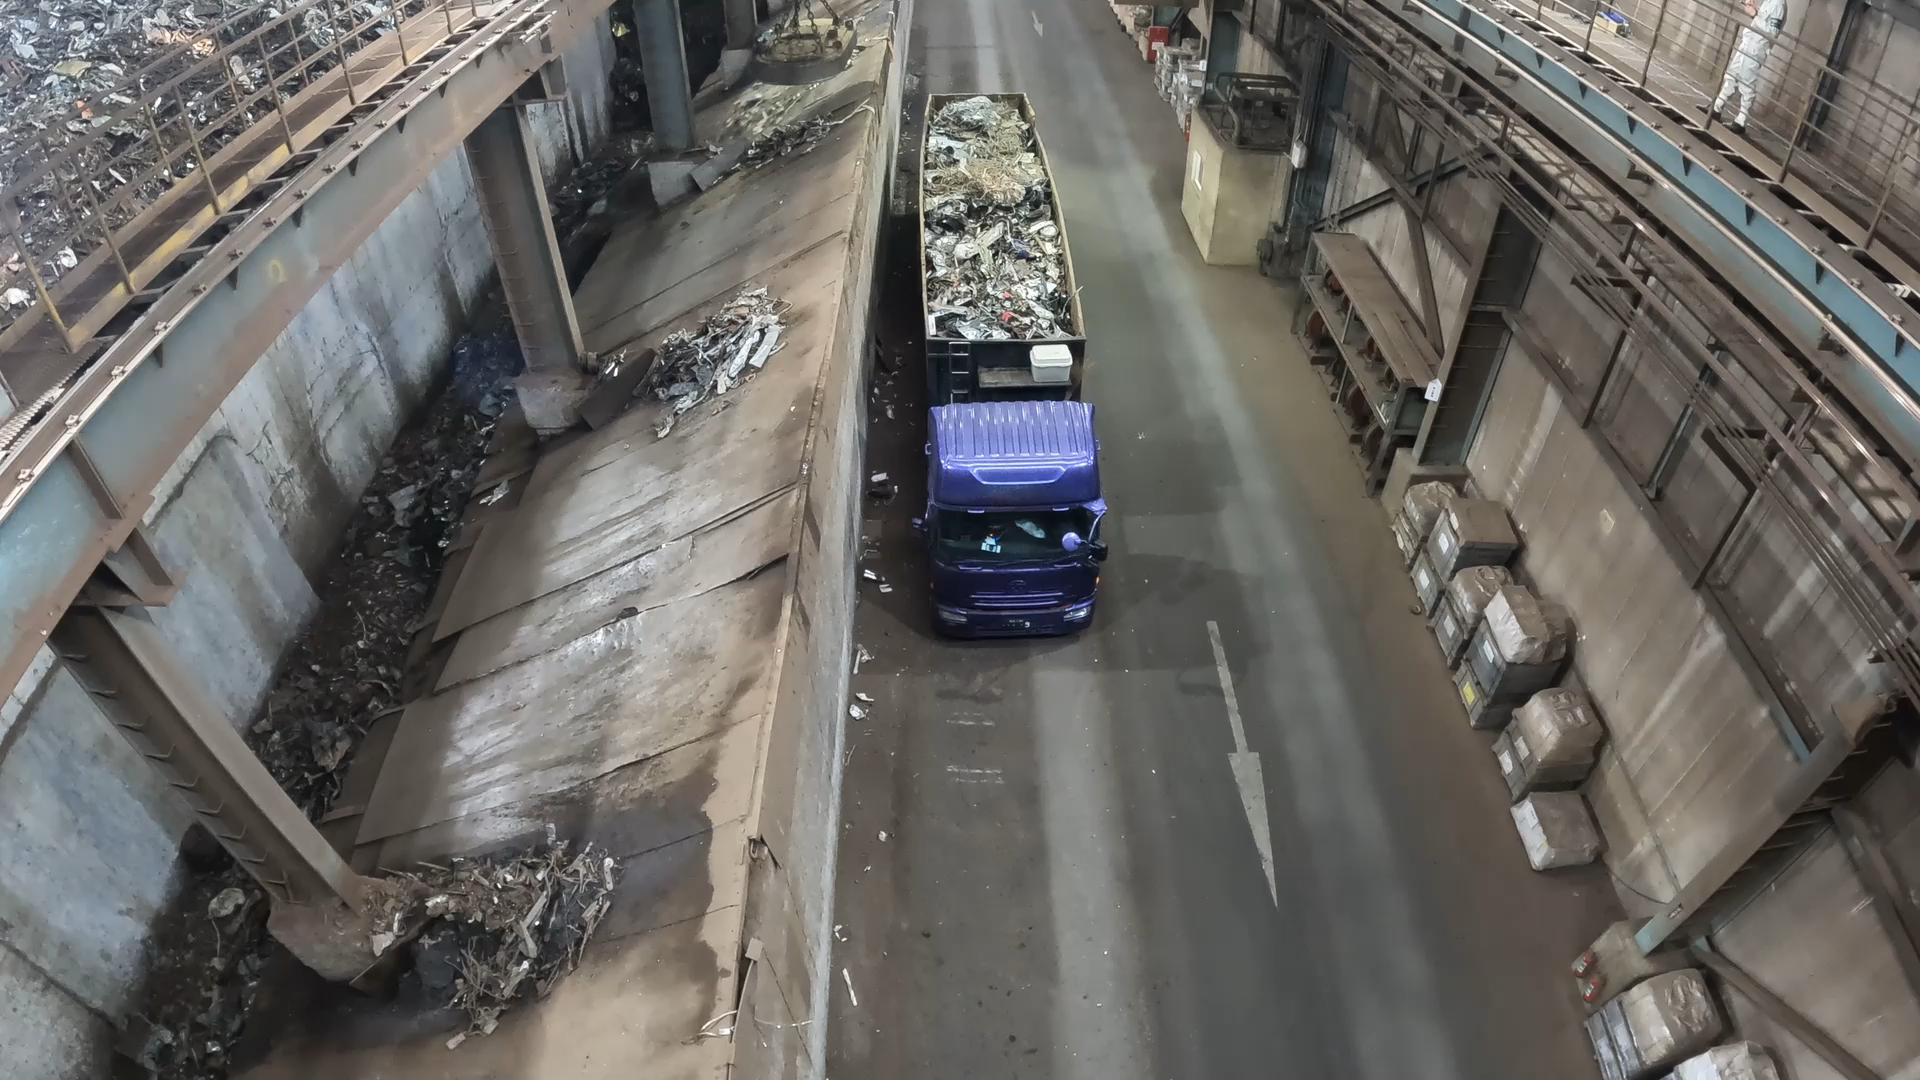truck: (920, 91, 1085, 342)
